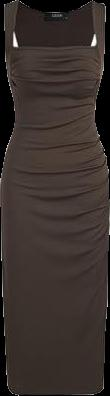Bodice: (4, 0, 105, 123)
Hemline: (10, 387, 105, 395)
Neckline: (10, 0, 100, 49)
Skirt: (0, 124, 109, 394)
